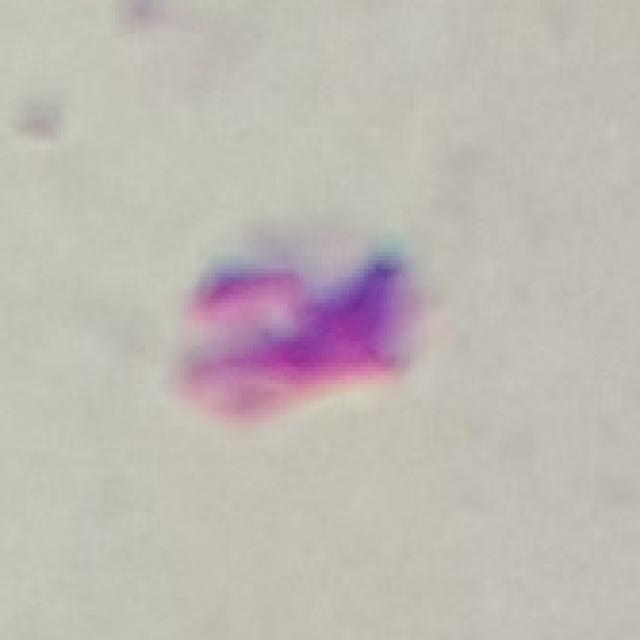non-sperm: (176, 249, 417, 420)
